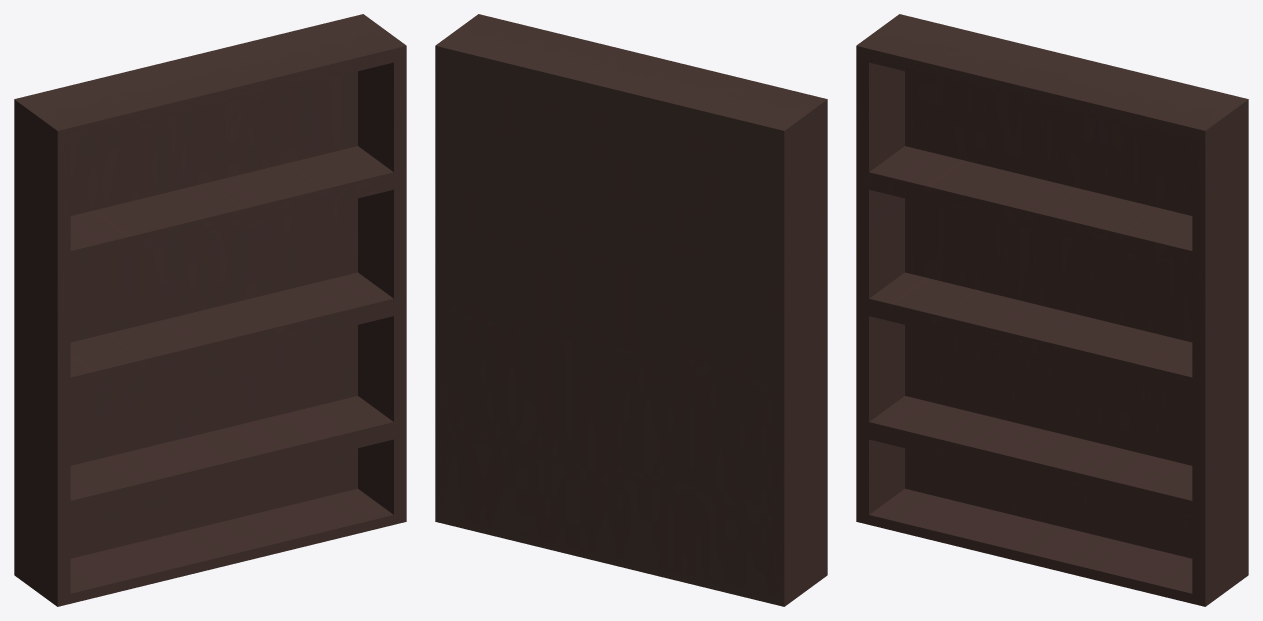
Rendered from Book Shelf.fbx.
The picture shows the model from 3 angles, left to right: view 1: azimuth 30°, elevation 25°; view 2: azimuth 150°, elevation 25°; view 3: azimuth 330°, elevation 25°; orthographic projection.
Parts seen in each view (by area): view 1: bookshelf; view 2: bookshelf; view 3: bookshelf.
Boxes of the visible parts, x1,y1,x2,y2 form: bookshelf: [14, 14, 406, 606]; bookshelf: [435, 14, 827, 606]; bookshelf: [856, 14, 1248, 606].
Bounding box in the file's own units: 128 × 167 × 27.66.
